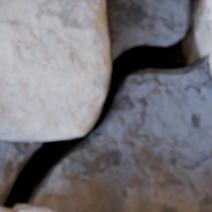brick: (0, 0, 109, 140), (210, 0, 211, 62)
broken_brick: (14, 204, 57, 211)
crack: (0, 0, 210, 211)
